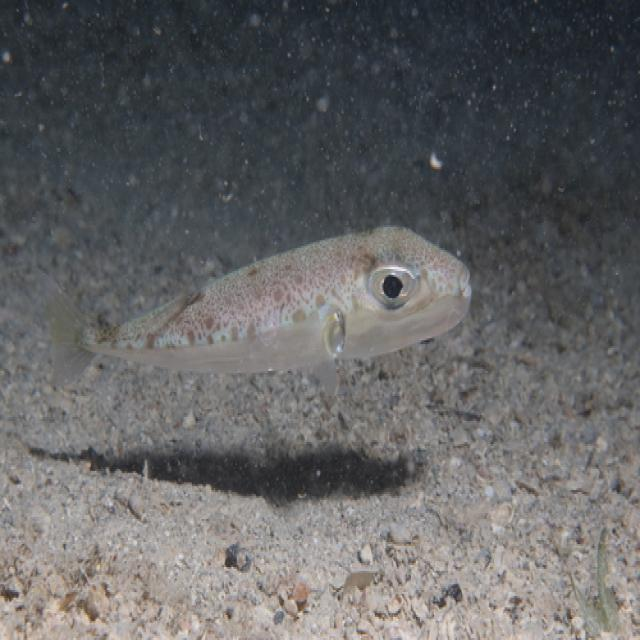Balik: (47, 227, 471, 384)
